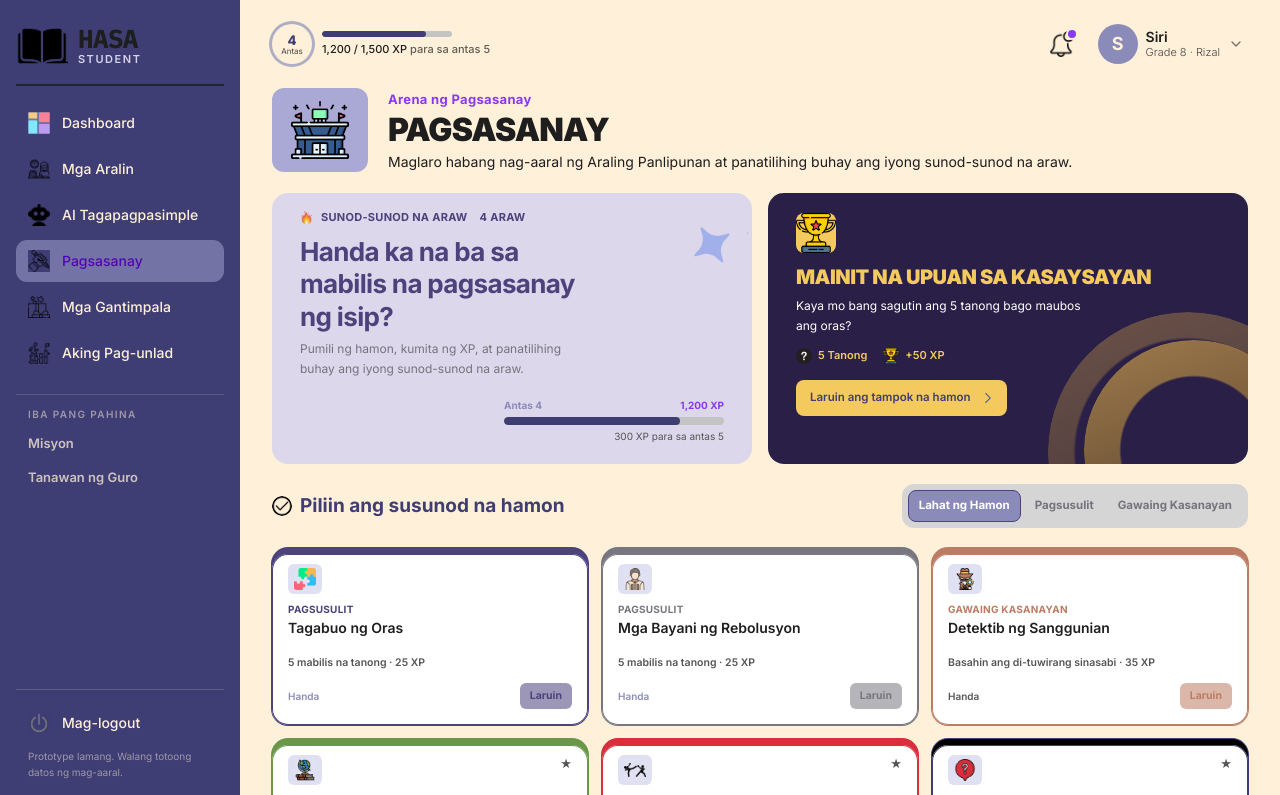
Scenario: activity player › nagbubukas mula sa card at may timer ang Tagabuo ng Oras
Click the button with aria-label "Laruin ang Tagabuo ng Oras".
click(546, 696)  # box [520,683,572,709]
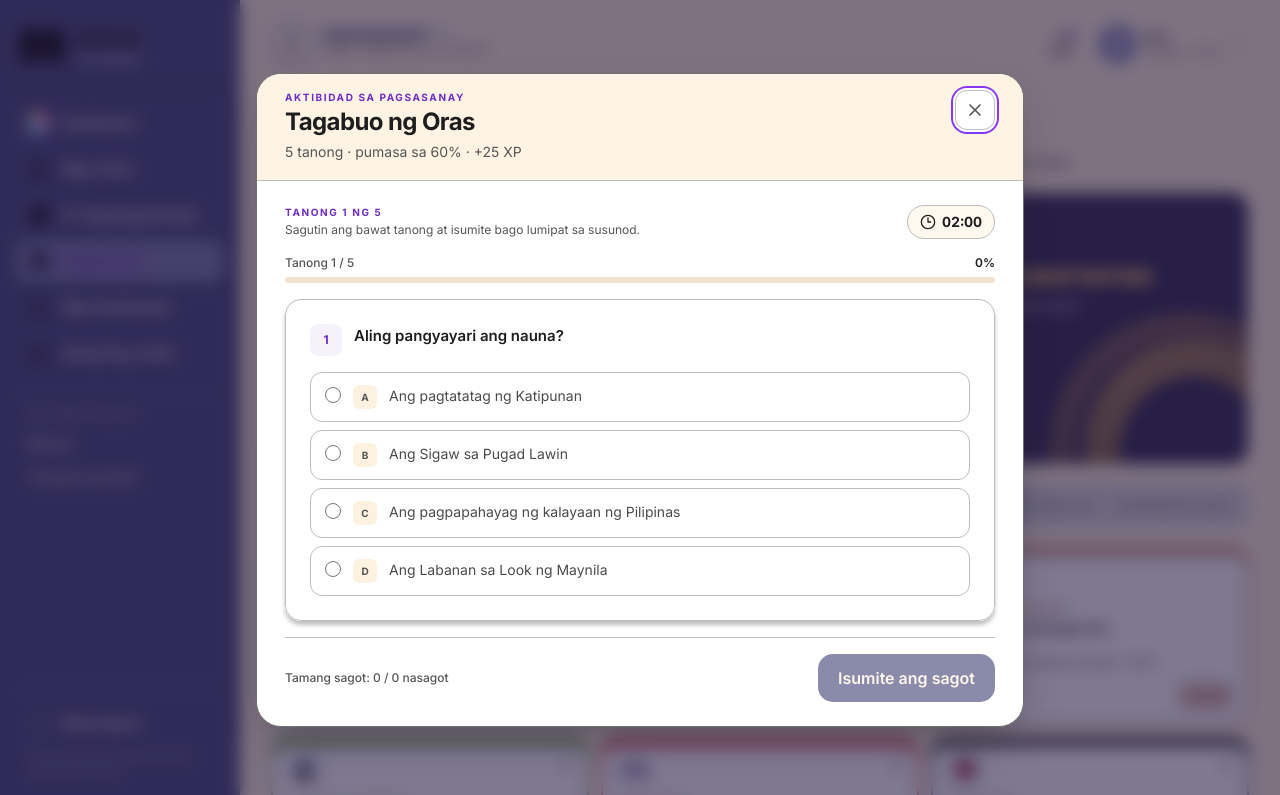
expect the dialog "Tagabuo ng Oras" is shown: met, box [256,73,1024,727]
expect the element showing "02:00" is shown: met, box [907,205,995,239]
